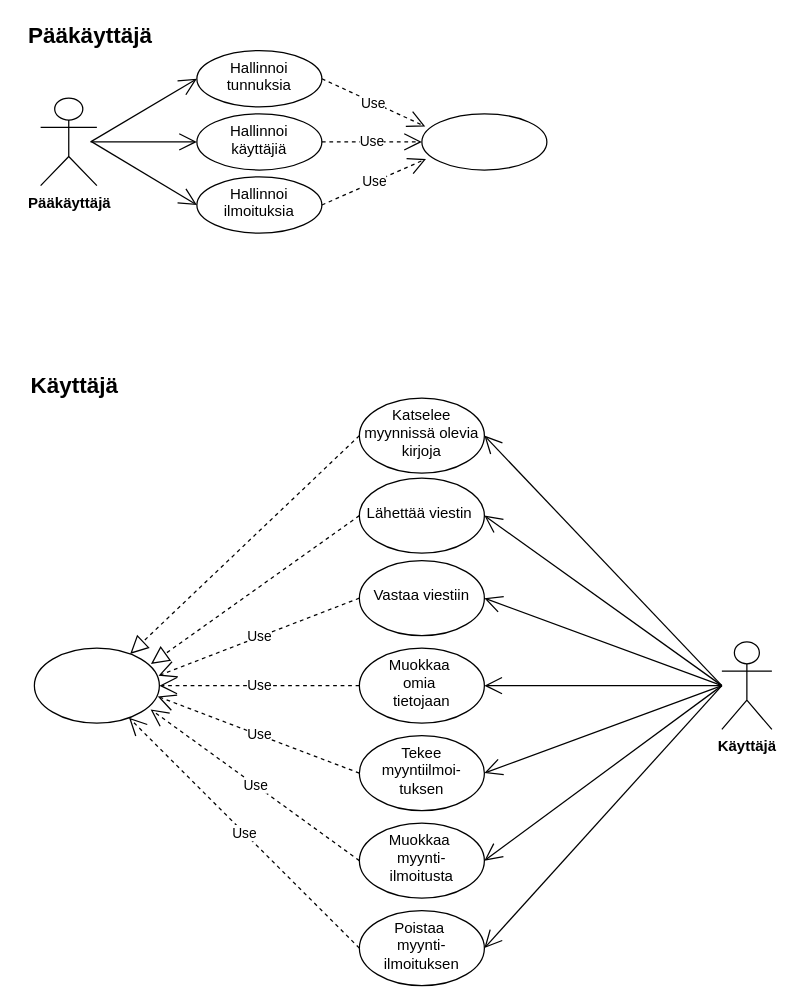
The diagram is 798 pixels wide and 1008 high, and some of its shapes have lost their labels. The shapes that lost their labels are listed below. From the top down, each one's centre as x and y in pixels, then its label:
point (484, 141): Kirjautuminen admin
point (96, 685): Kirjautuminen
